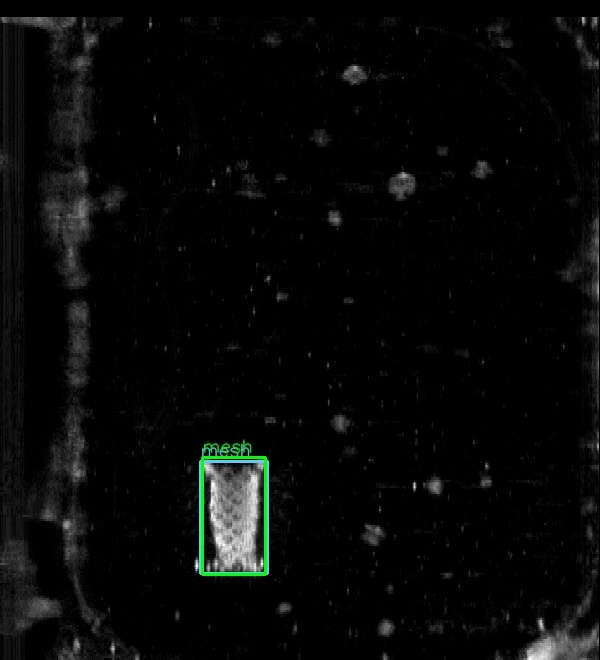mesh: (200, 461, 267, 573)
